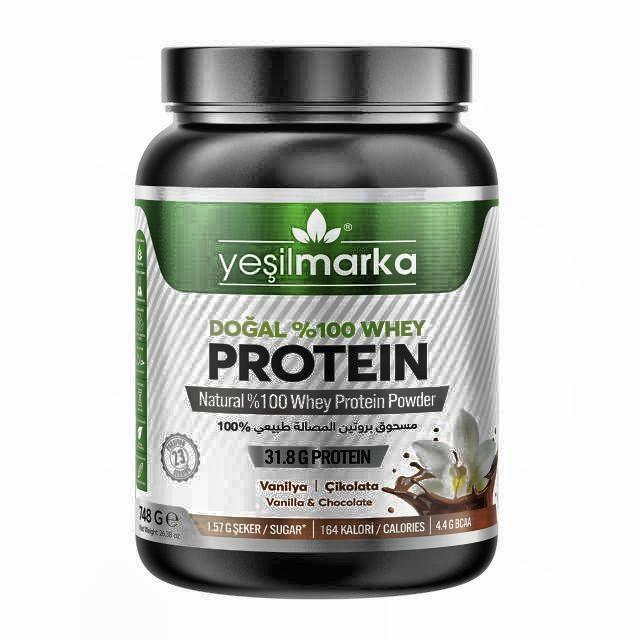plastic: (132, 46, 504, 601)
